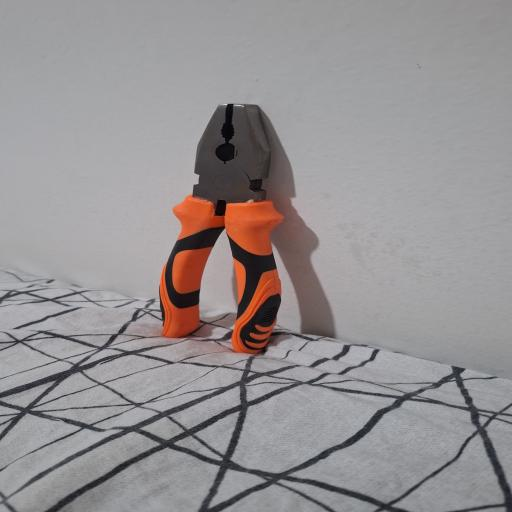alicate: (156, 97, 286, 358)
